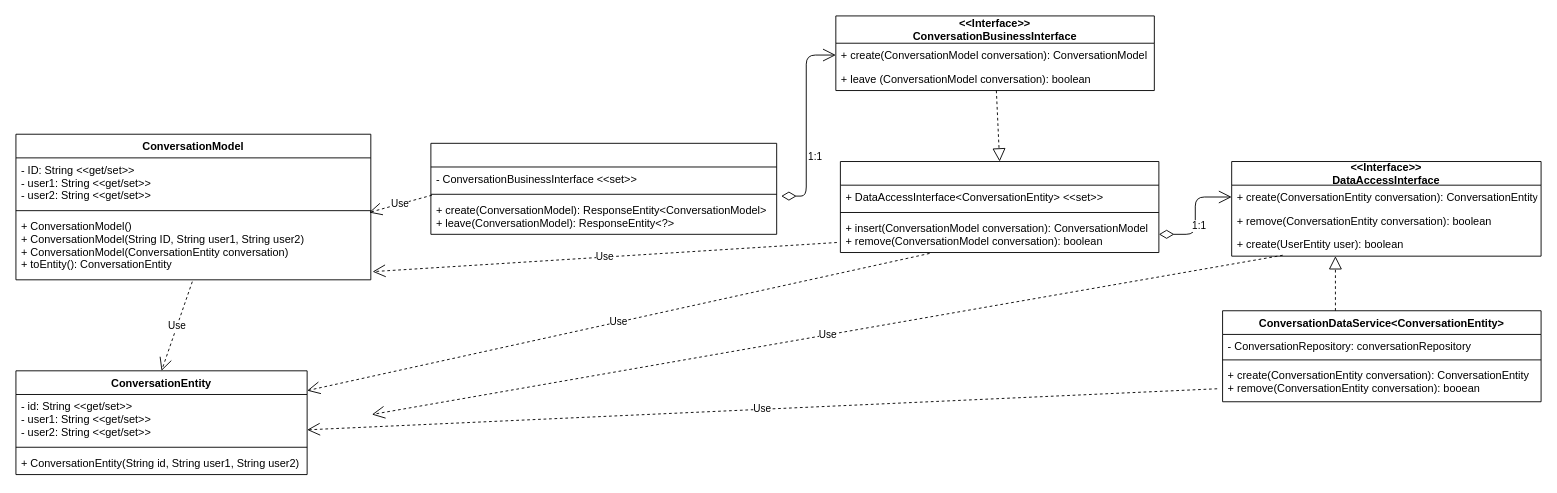
Image size: 1557x493. Some labels were removed from this diagram. The box of each missing label's shape, as (x1, y1, x2, y2) in pixels:
ConversationBusinessService: (839, 161, 1159, 253)
ConversationRestService: (430, 142, 777, 234)
